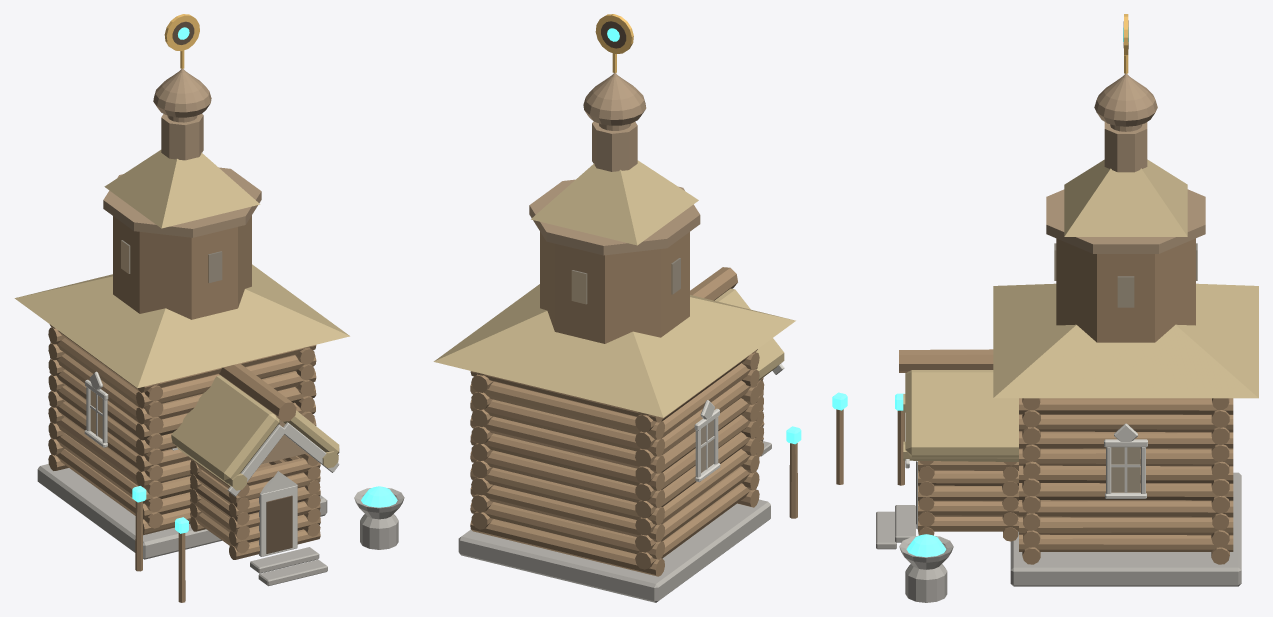
File: bld_church.glb
3 renders of one model, left to right at view 1: azimuth 30°, elevation 25°; view 2: azimuth 150°, elevation 25°; view 3: azimuth 270°, elevation 25°, orthographic. The views are drawn at different scales.
Parts seen in each view (by area): view 1: church; view 2: church; view 3: church.
Boxes of the visible parts, x1=… form: church: x1=14, y1=14, x2=404, y2=602; church: x1=433, y1=14, x2=847, y2=602; church: x1=876, y1=14, x2=1258, y2=602.
Size of the model in its own units: 1.4 by 2.75 by 1.82.
